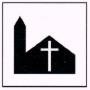Igreja-santuario: (1, 0, 90, 90)
